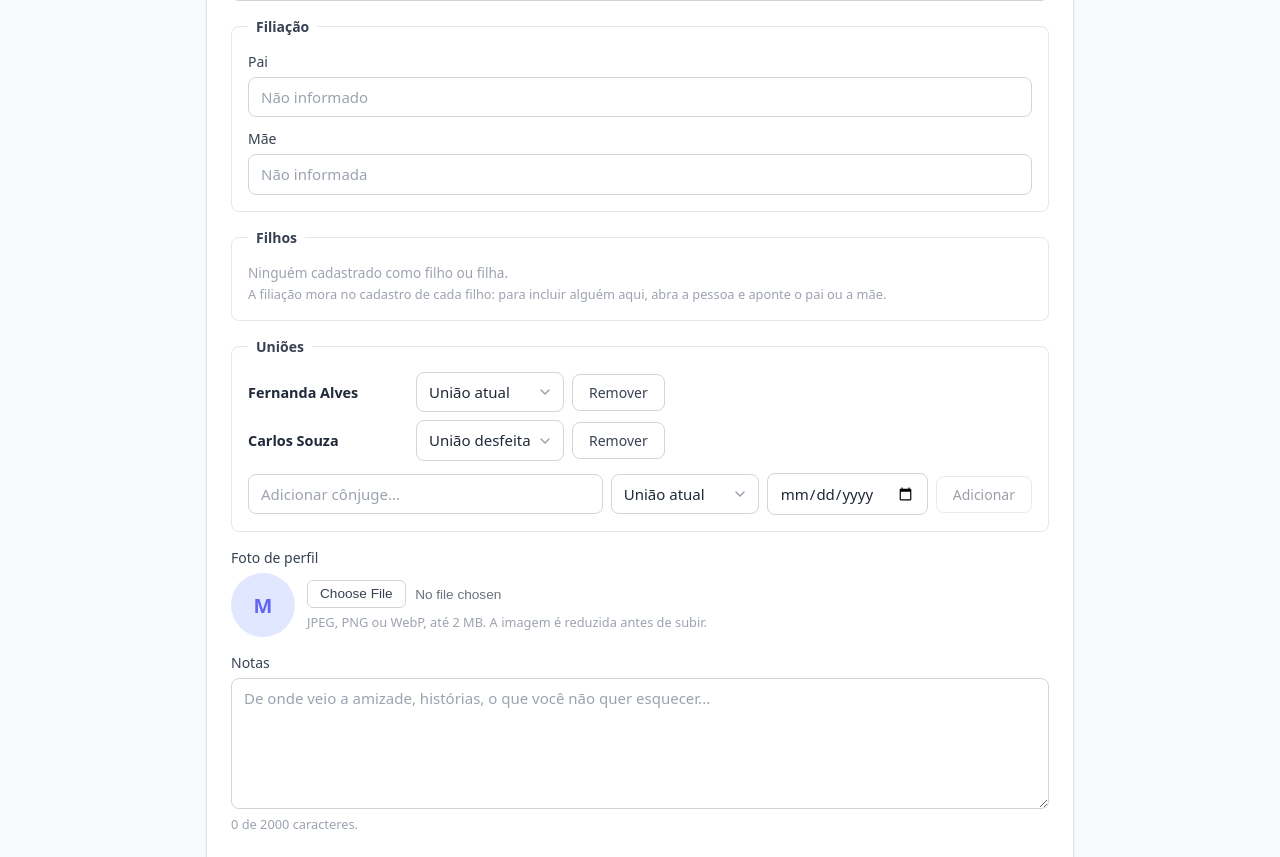
PersonFormPage — edição › a recusa da API vira mensagem na tela, e o campo volta ao que o servidor diz
(page scrolled)
Select "União atual" in the dropdown named "Situação da união com Carlos Souza" at (490, 441), box [416,420,564,461]
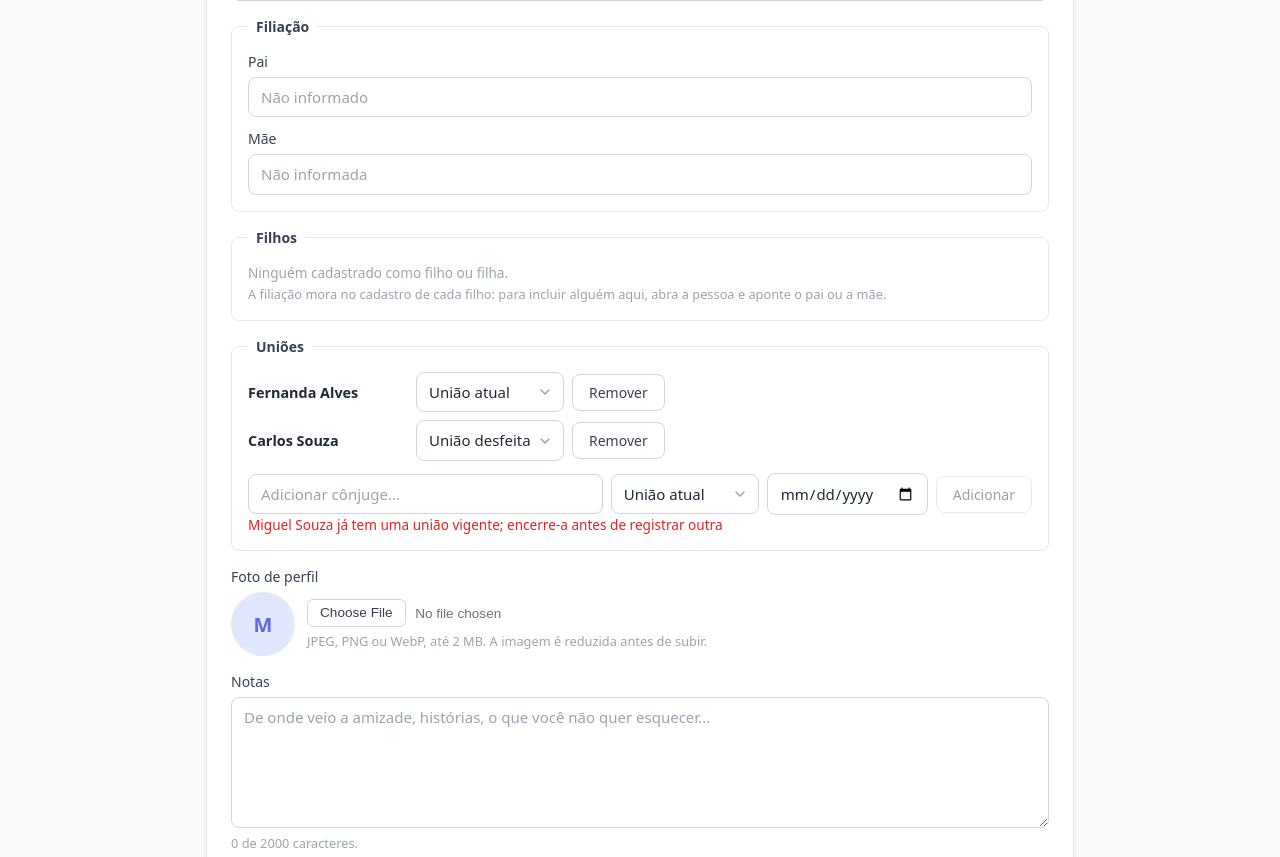
Expected: the text "já tem uma união vigente" is shown, [248,515,722,534]
